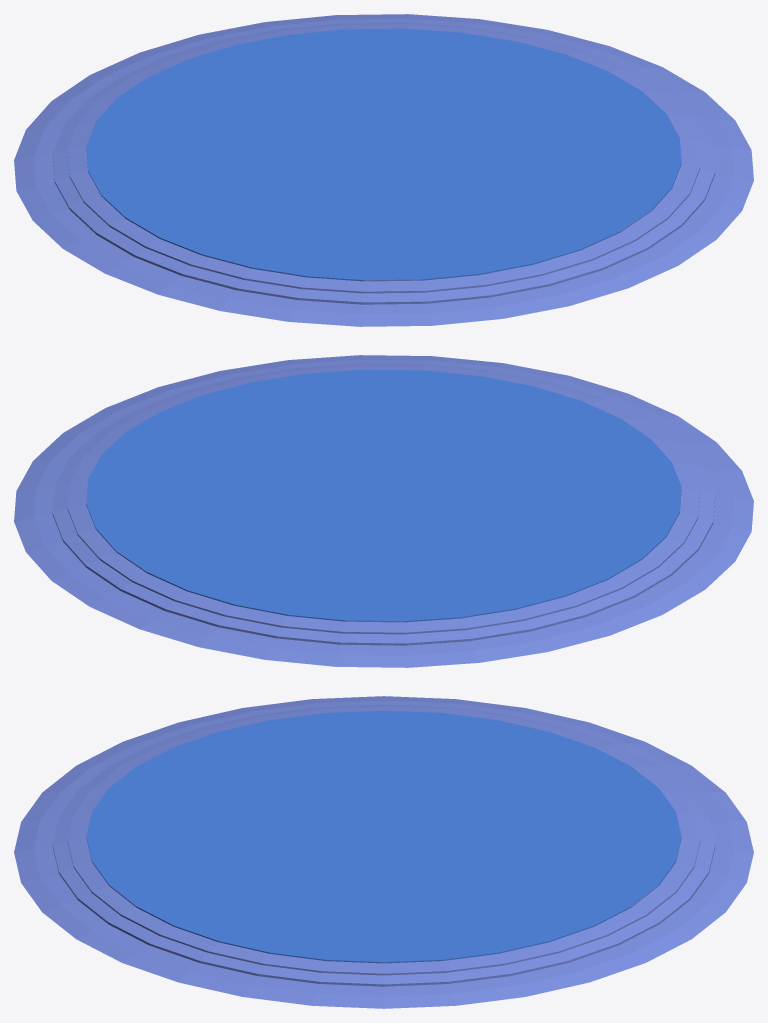
Rendered from Plataforma test 1.fbx.
3 renders of one model, top to bottom at view 1: azimuth 30°, elevation 25°; view 2: azimuth 150°, elevation 25°; view 3: azimuth 270°, elevation 25°, orthographic.
Parts seen in each view (by area): view 1: Plataforma; view 2: Plataforma; view 3: Plataforma.
Boxes of the visible parts, x1=… form: Plataforma: x1=14, y1=14, x2=753, y2=326; Plataforma: x1=14, y1=355, x2=753, y2=667; Plataforma: x1=14, y1=696, x2=753, y2=1008.
Size of the model in its own units: 3600 by 86.09 by 3600.
